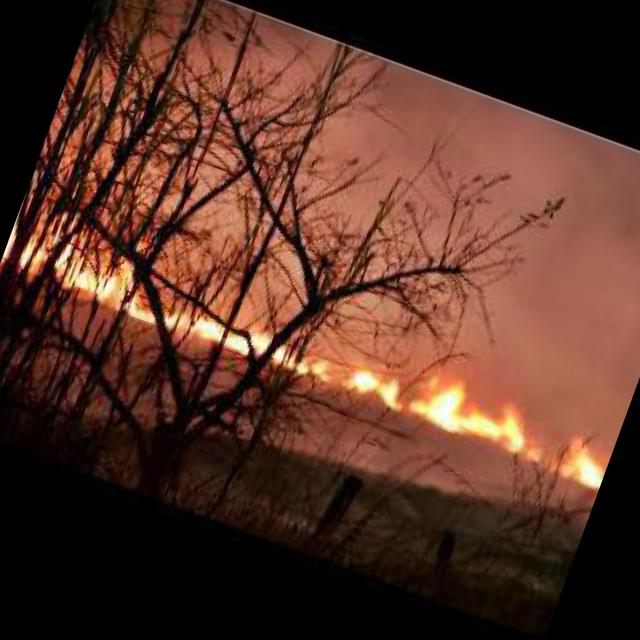fire: (1, 205, 198, 328), (344, 347, 544, 454), (192, 310, 336, 380), (548, 426, 616, 492)
